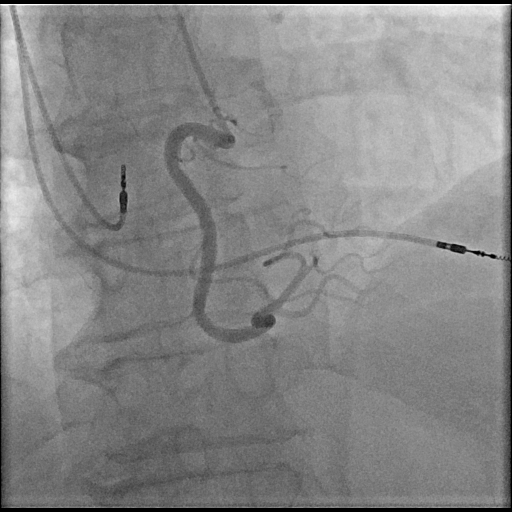RCA: (165, 123, 309, 344)
catherter: (174, 8, 231, 134)
